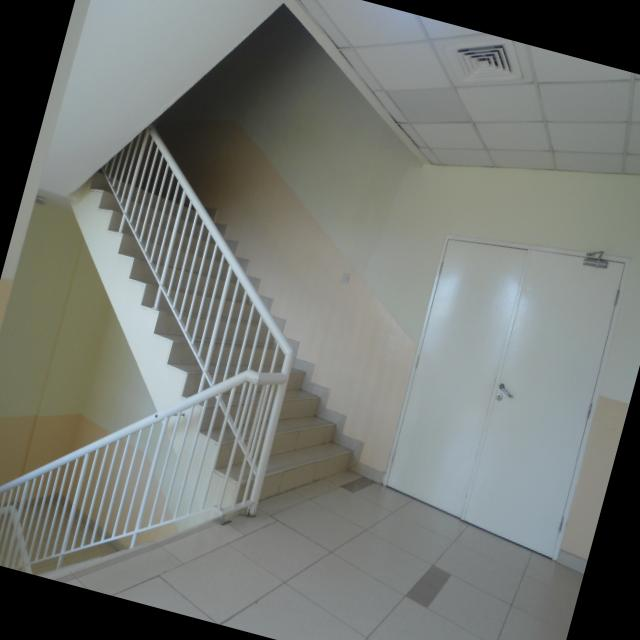door: (348, 208, 636, 562)
railing: (9, 95, 352, 527), (0, 297, 295, 625)
stairs: (0, 124, 416, 540)
